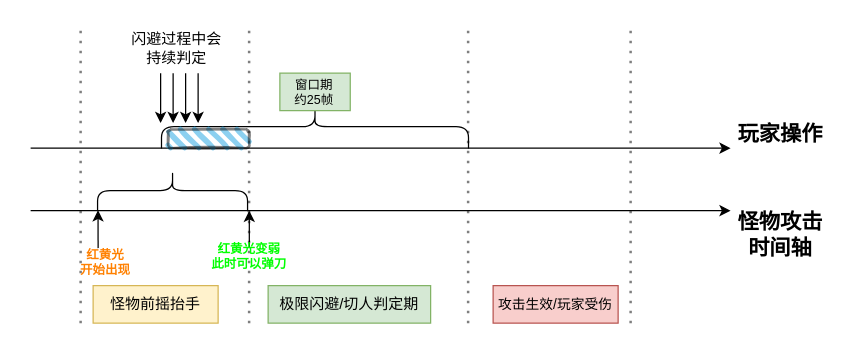
Image size: 853x346. Some labels were removed from this diagram. The shapes that lost their labels are listed below. From the top down, each one's box as (x1, y1, x2, y2) in pixels, then its label:
(166, 128, 250, 149): 约8帧
(96, 169, 248, 211): 约15帧
